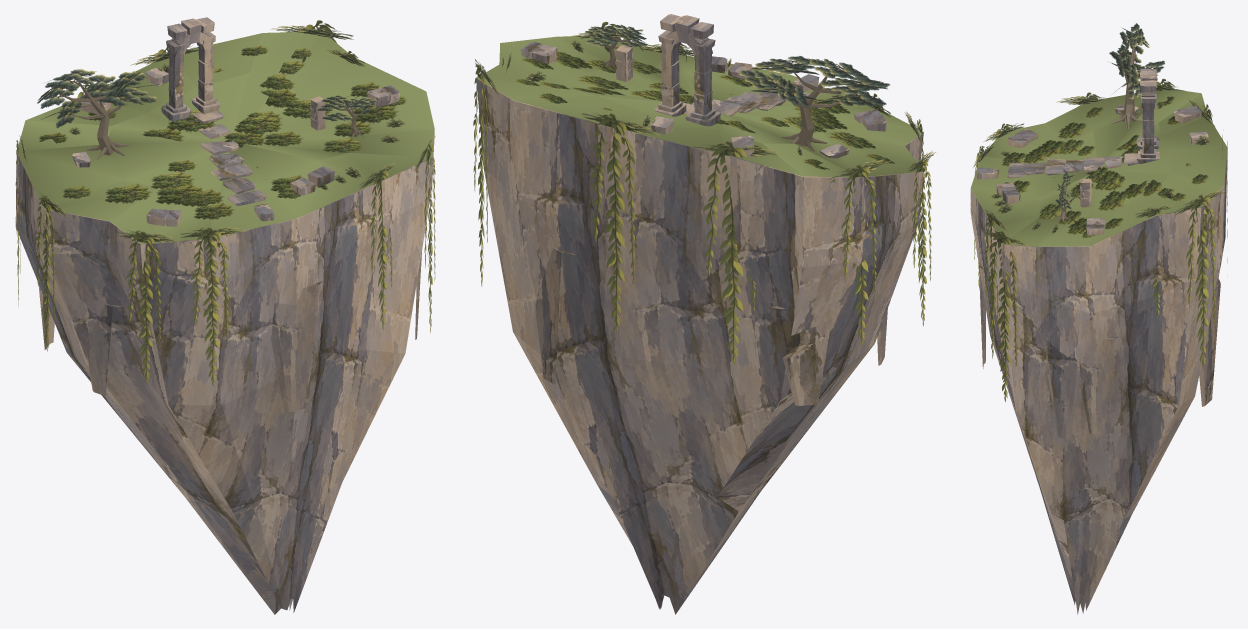
Rendered from stepped-ledge.glb.
3 renders of one model, left to right at view 1: azimuth 30°, elevation 25°; view 2: azimuth 150°, elevation 25°; view 3: azimuth 270°, elevation 25°, orthographic. The views are drawn at different scales.
Parts seen in each view (by area): view 1: stepped-ledge-continuous-fractured-stone, stepped-ledge-summit-soil-and-bent-trunks, stepped-ledge-painted-pine-ivy-and-moss, stepped-ledge-ruins-path-and-splintered-ledges, stepped-ledge-long-hanging-vine-quads; view 2: stepped-ledge-continuous-fractured-stone, stepped-ledge-summit-soil-and-bent-trunks, stepped-ledge-ruins-path-and-splintered-ledges, stepped-ledge-painted-pine-ivy-and-moss, stepped-ledge-long-hanging-vine-quads; view 3: stepped-ledge-continuous-fractured-stone, stepped-ledge-summit-soil-and-bent-trunks, stepped-ledge-ruins-path-and-splintered-ledges, stepped-ledge-painted-pine-ivy-and-moss, stepped-ledge-long-hanging-vine-quads.
Boxes of the visible parts, x1,y1,x2,y2 form: stepped-ledge-continuous-fractured-stone: (15,133,434,614); stepped-ledge-summit-soil-and-bent-trunks: (16,32,434,243); stepped-ledge-painted-pine-ivy-and-moss: (19,25,435,243); stepped-ledge-ruins-path-and-splintered-ledges: (38,17,421,412); stepped-ledge-long-hanging-vine-quads: (15,20,435,386); stepped-ledge-continuous-fractured-stone: (476,53,923,614); stepped-ledge-summit-soil-and-bent-trunks: (477,33,923,177); stepped-ledge-ruins-path-and-splintered-ledges: (520,14,887,405); stepped-ledge-painted-pine-ivy-and-moss: (475,24,935,183); stepped-ledge-long-hanging-vine-quads: (473,22,931,363); stepped-ledge-continuous-fractured-stone: (970,150,1227,614); stepped-ledge-summit-soil-and-bent-trunks: (971,46,1227,246); stepped-ledge-ruins-path-and-splintered-ledges: (976,68,1220,439); stepped-ledge-painted-pine-ivy-and-moss: (973,23,1226,251); stepped-ledge-long-hanging-vine-quads: (974,78,1227,401).
Bounding box in the file's own units: 29.7 × 42.47 × 19.89.
4 materials, 3 textured.
